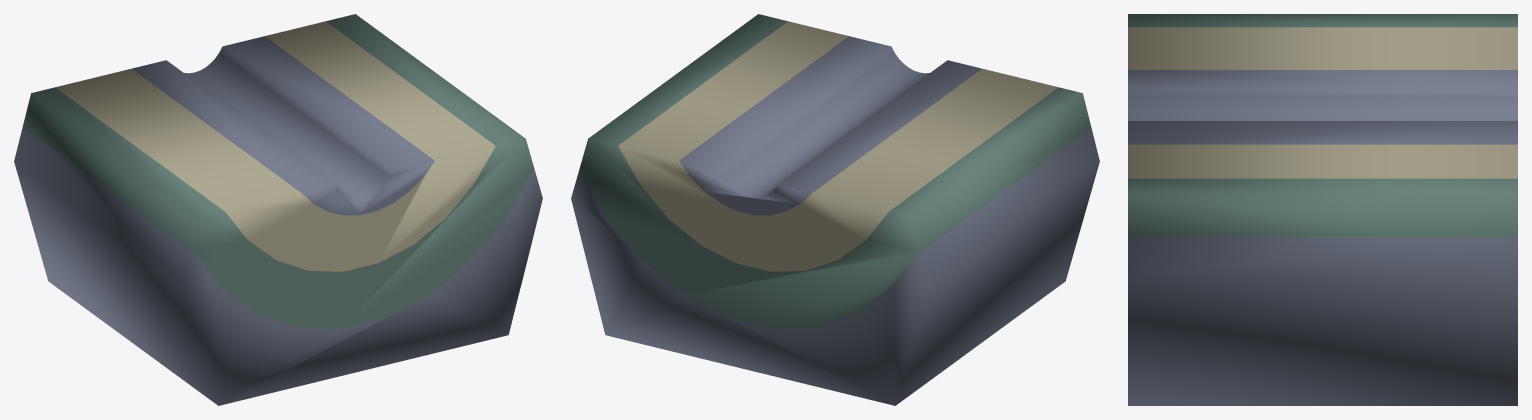
The model's file is Junk2.fbx.
The picture shows the model from 3 angles, left to right: view 1: azimuth 30°, elevation 25°; view 2: azimuth 150°, elevation 25°; view 3: azimuth 270°, elevation 25°; orthographic projection. The views are drawn at different scales.
Parts seen in each view (by area): view 1: Model; view 2: Model; view 3: Model.
Part boxes in pixels (x1,y1,x2,y2): Model: (14,14,542,405); Model: (571,14,1099,405); Model: (1128,14,1517,405).
Size of the model in its own units: 79.77 by 40.89 by 65.59.
